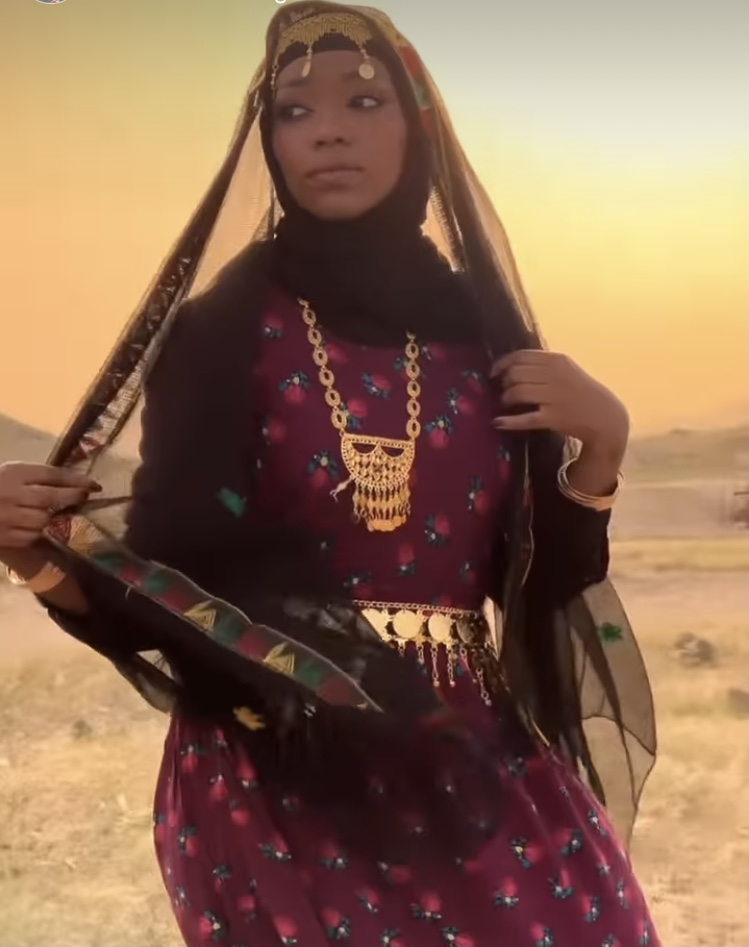Saudi_Founding_Day: (1, 5, 663, 947)
